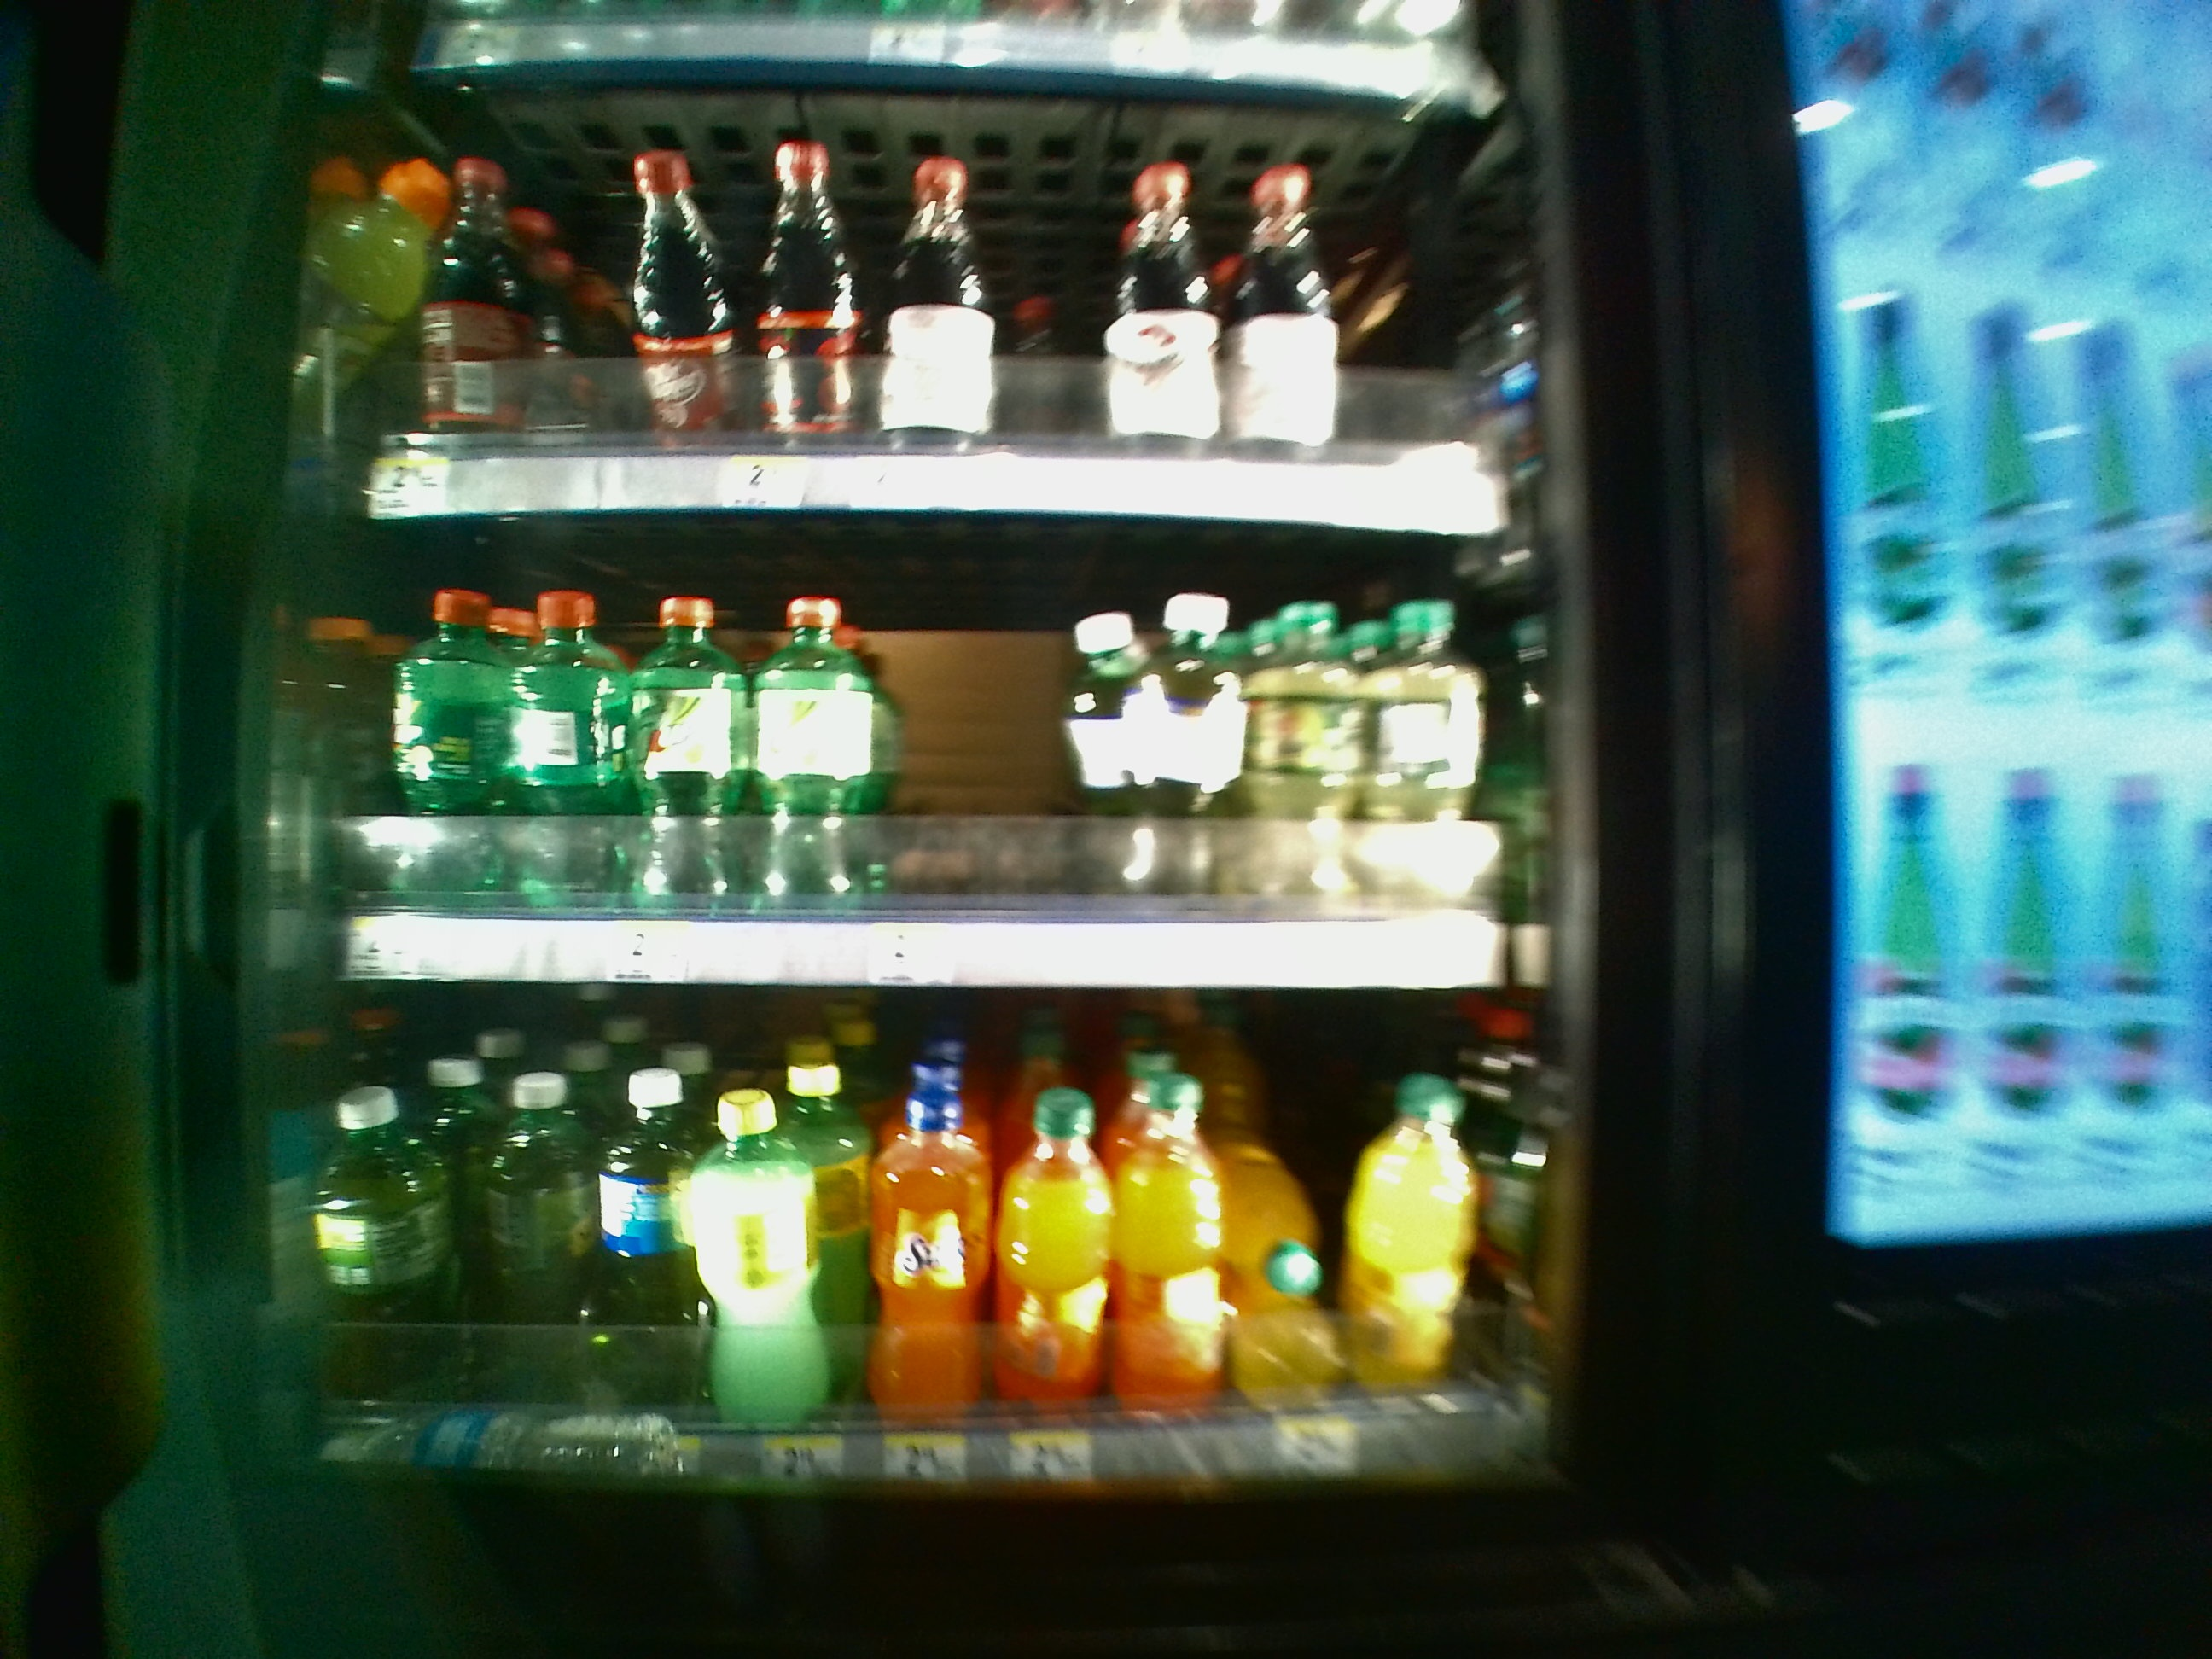shelf: (307, 1007, 1538, 1513), (310, 518, 1526, 993)
